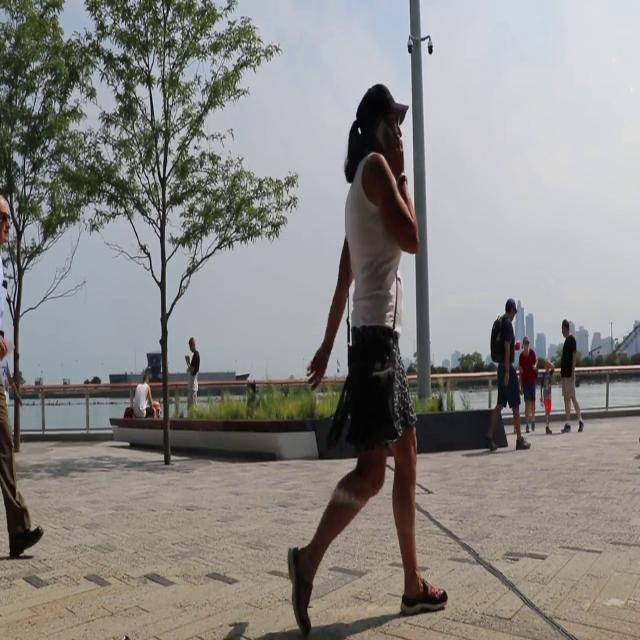normal: (283, 79, 453, 623)
